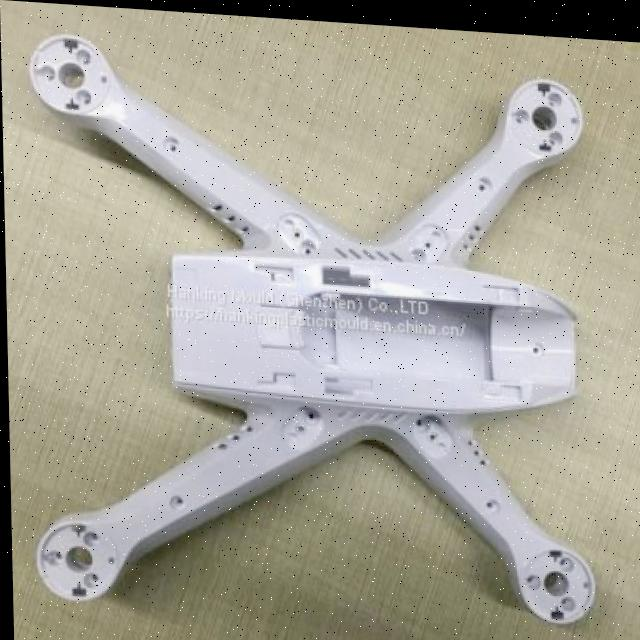drone: (13, 24, 634, 640)
